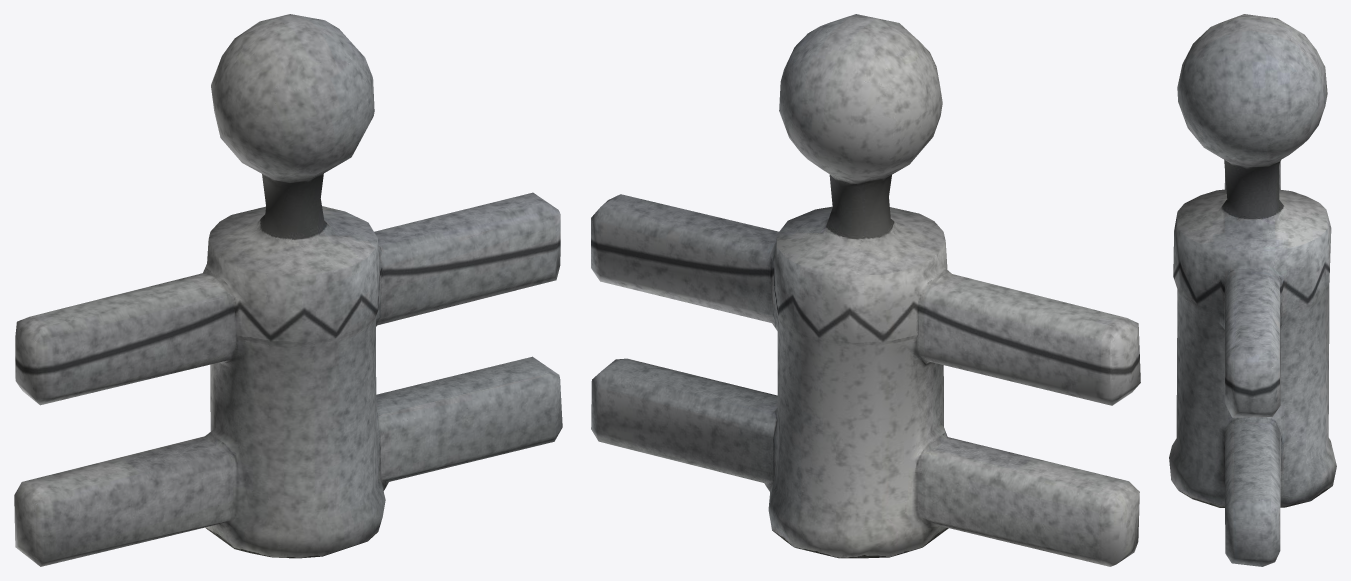
The model's file is balustrade.glb.
The picture shows the model from 3 angles, left to right: view 1: azimuth 30°, elevation 25°; view 2: azimuth 150°, elevation 25°; view 3: azimuth 270°, elevation 25°; orthographic projection. The views are drawn at different scales.
Visible parts, largest first — view 1: balustrade_lod0; view 2: balustrade_lod0; view 3: balustrade_lod0.
Part boxes in pixels (x1,y1,x2,y2): balustrade_lod0: (14, 14, 562, 566); balustrade_lod0: (591, 14, 1140, 566); balustrade_lod0: (1169, 14, 1336, 566).
Size of the model in its own units: 0.9998 by 0.8933 by 0.2994.
Materials: 1 (1 with a texture image).
